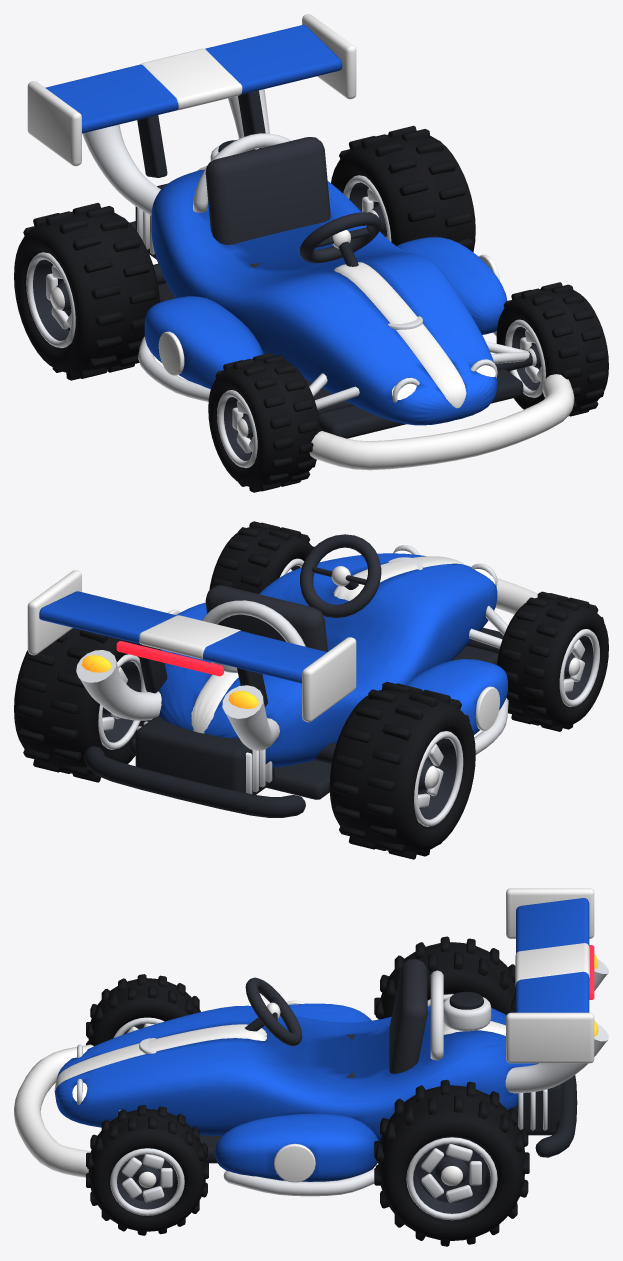
Rendered from kart.glb.
The picture shows the model from 3 angles, top to bottom: view 1: azimuth 30°, elevation 25°; view 2: azimuth 150°, elevation 25°; view 3: azimuth 270°, elevation 25°; orthographic projection. The views are drawn at different scales.
Visible parts, largest first — view 1: KartBody, wheel_RL, wheel_FL, wheel_RR, wheel_FR; view 2: KartBody, wheel_RL, wheel_RR, wheel_FL, wheel_FR; view 3: KartBody, wheel_RR, wheel_FR, wheel_RL, wheel_FL.
Boxes of the visible parts, <box> form: KartBody: <box>27,14,574,470</box>; wheel_RL: <box>14,203,159,380</box>; wheel_FL: <box>208,352,320,492</box>; wheel_RR: <box>331,125,475,252</box>; wheel_FR: <box>496,282,608,416</box>; KartBody: <box>27,534,537,817</box>; wheel_RL: <box>329,682,475,859</box>; wheel_RR: <box>14,628,150,782</box>; wheel_FL: <box>497,591,608,731</box>; wheel_FR: <box>209,521,314,593</box>; KartBody: <box>14,888,608,1196</box>; wheel_RR: <box>374,1079,529,1246</box>; wheel_FR: <box>86,1105,208,1235</box>; wheel_RL: <box>374,936,515,1019</box>; wheel_FL: <box>86,974,200,1046</box>.
Size of the model in its own units: 1.73 by 0.9485 by 2.42.
